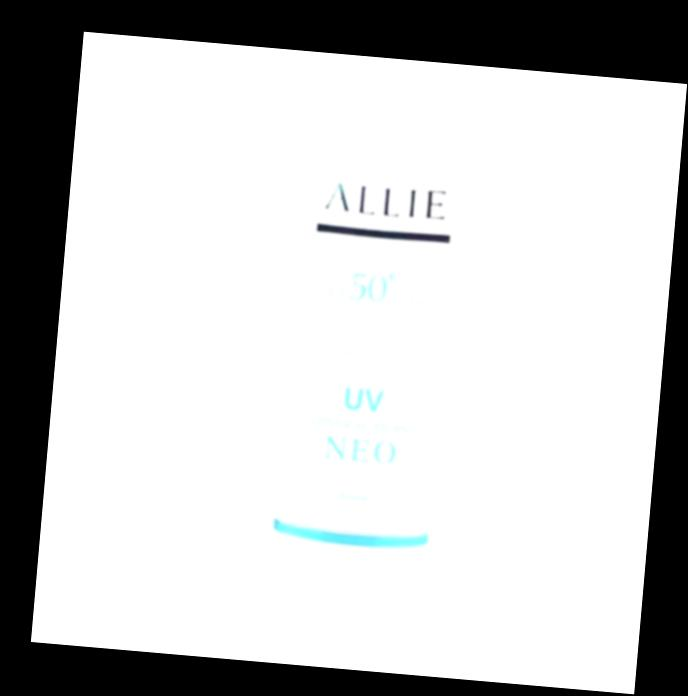cosmetic: (234, 83, 499, 639)
